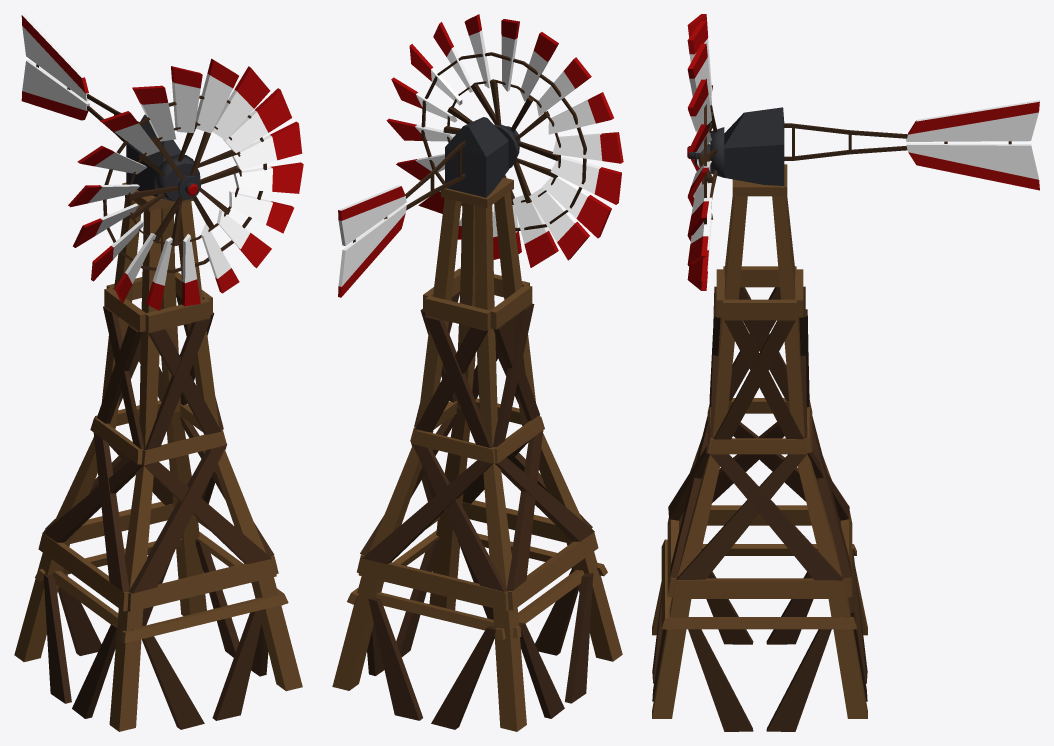
The model's file is WindMilll.fbx.
The picture shows the model from 3 angles, left to right: view 1: azimuth 30°, elevation 25°; view 2: azimuth 150°, elevation 25°; view 3: azimuth 270°, elevation 25°; orthographic projection. The views are drawn at different scales.
Visible parts, largest first — view 1: AA, AB, AC; view 2: AA, AB, AC; view 3: AA, AC, AB.
Boxes of the visible parts, x1=… form: AA: x1=14, y1=114, x2=302, y2=731; AB: x1=68, y1=58, x2=303, y2=310; AC: x1=21, y1=14, x2=139, y2=141; AA: x1=332, y1=117, x2=622, y2=731; AB: x1=386, y1=14, x2=623, y2=267; AC: x1=338, y1=141, x2=465, y2=297; AA: x1=652, y1=107, x2=867, y2=731; AC: x1=784, y1=100, x2=1039, y2=190; AB: x1=687, y1=14, x2=724, y2=290.
Bounding box in the file's own units: 507 × 1331 × 710.
